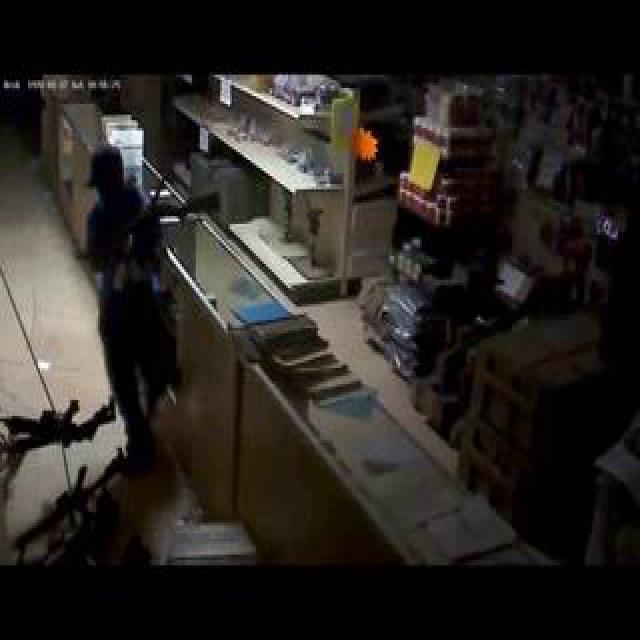burglary: (34, 33, 268, 534)
